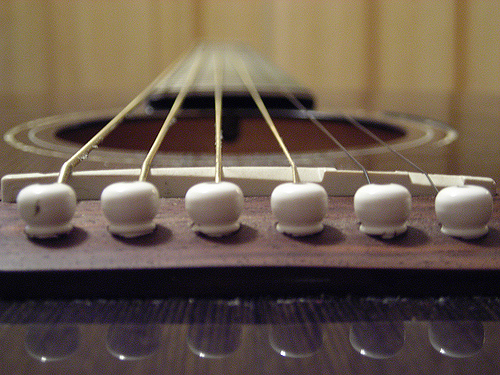guitar: (1, 41, 500, 375)
